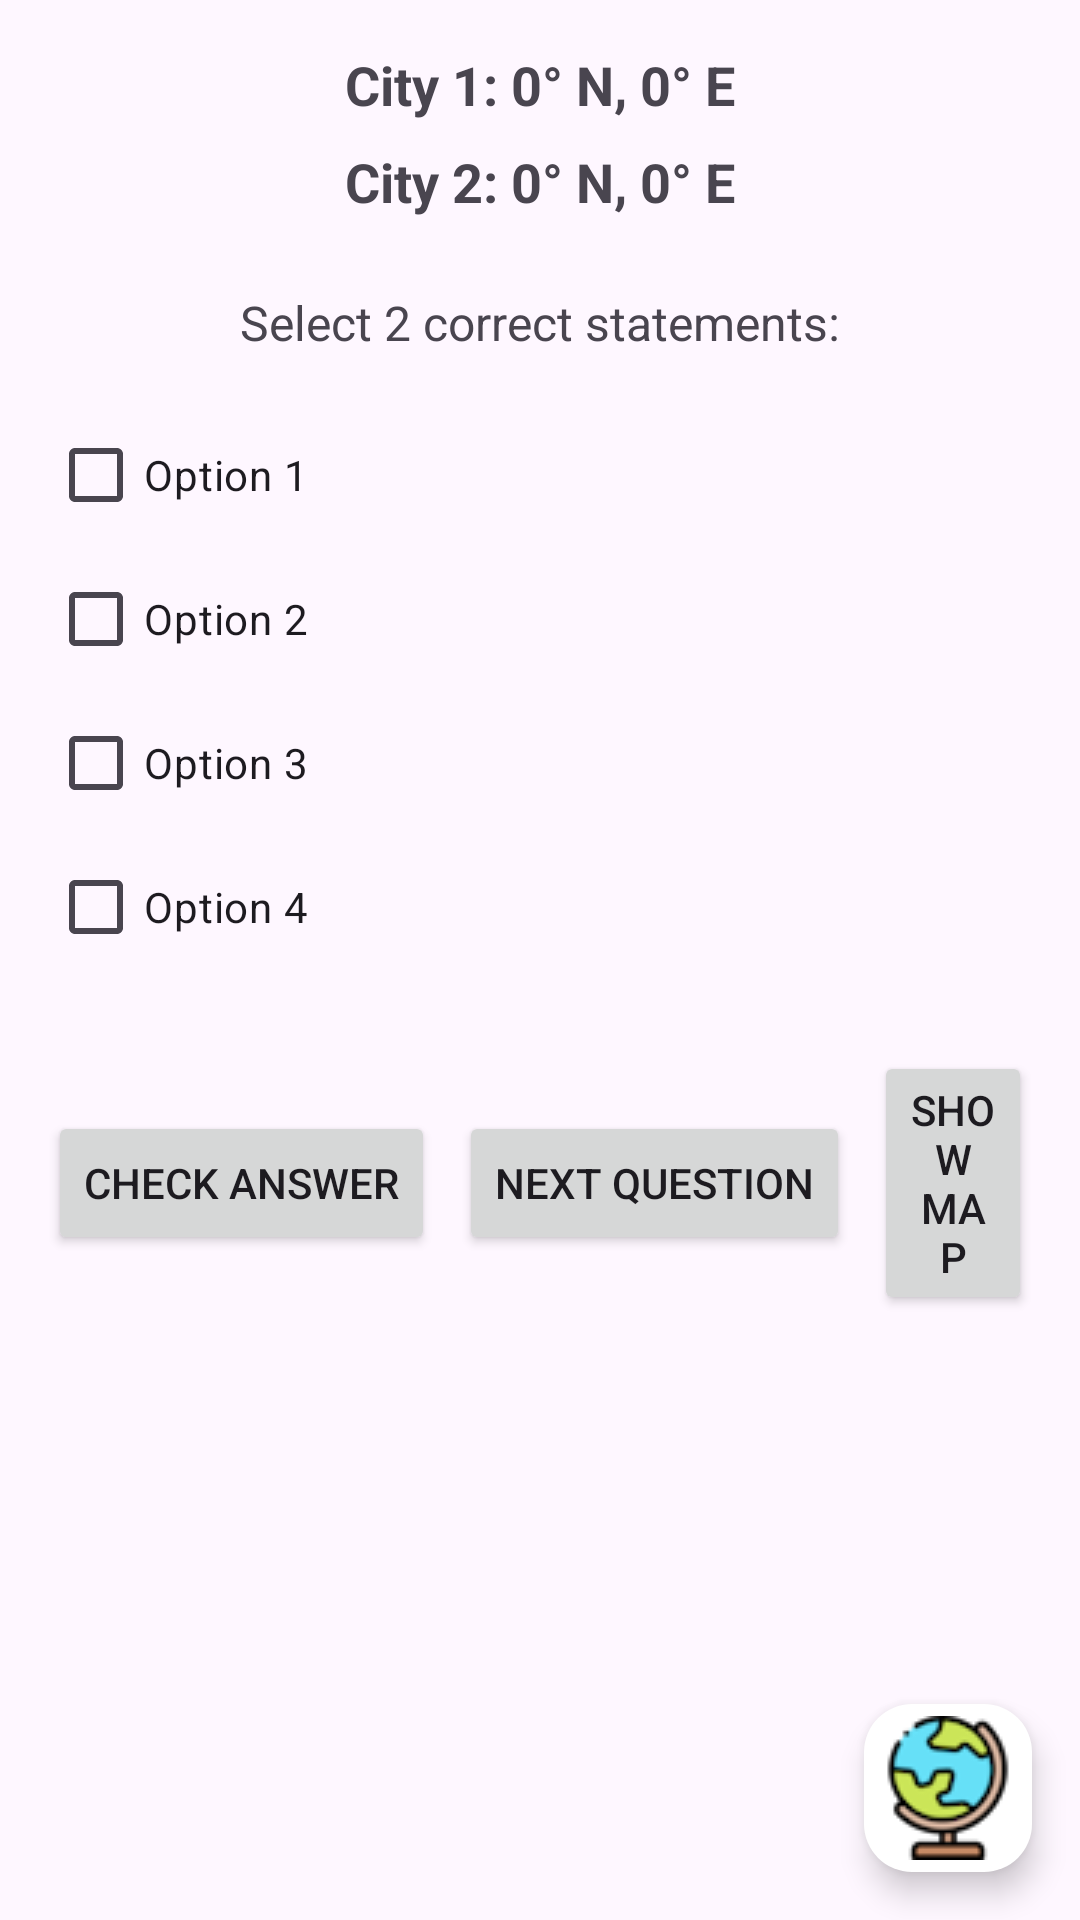

Icon bounding boxes for this 1080*1920 phone screenshot, format (x1=x1, y1=y1, x2=x2, y2=y2):
globus: (x1=887, y1=1716, x2=1009, y2=1860)
